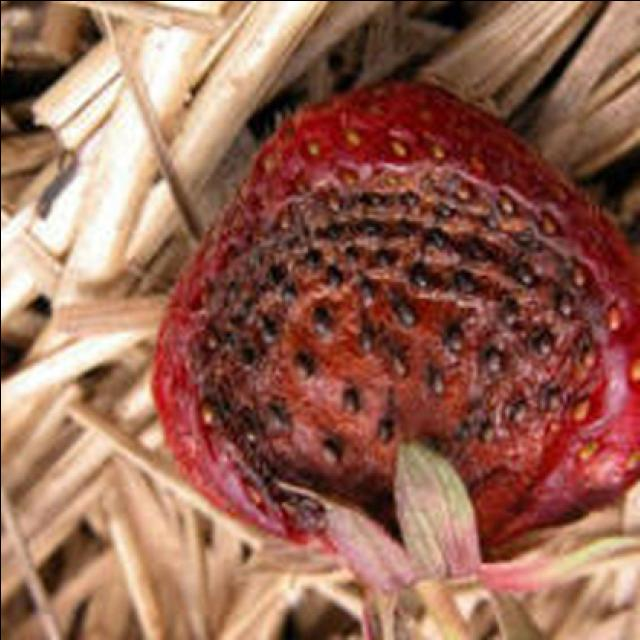Anthracnose Fruit Rot: (239, 192, 579, 465)
